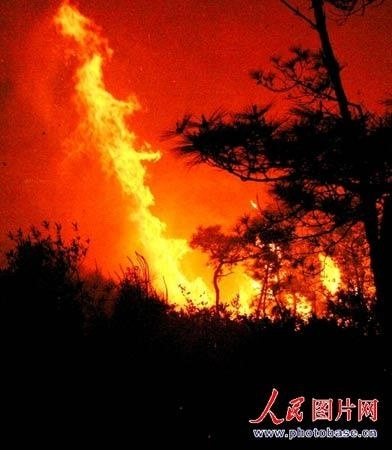fire: (45, 0, 182, 249)
